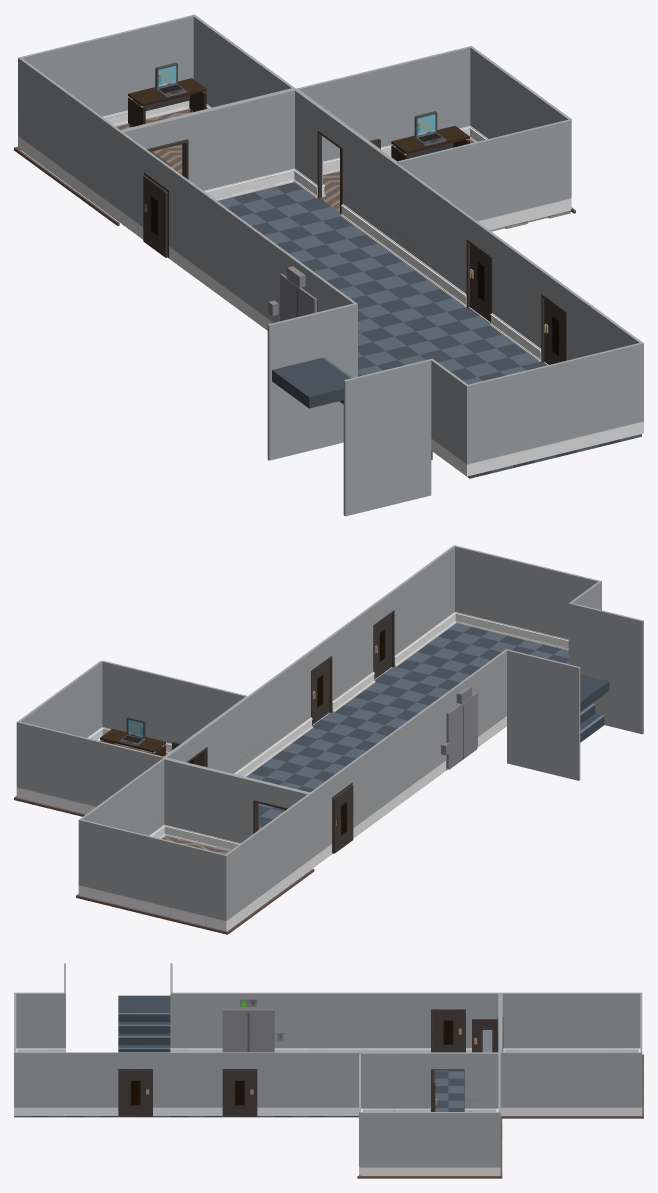
Rendered from tercerNiveles.fbx.
The picture shows the model from 3 angles, top to bottom: view 1: azimuth 30°, elevation 25°; view 2: azimuth 150°, elevation 25°; view 3: azimuth 270°, elevation 25°; orthographic projection. The views are drawn at different scales.
Visible parts, largest first — view 1: Caja_996; view 2: Caja_996; view 3: Caja_996.
Part boxes in pixels (x1=…): Caja_996: x1=14, y1=14, x2=643, y2=516; Caja_996: x1=14, y1=545, x2=643, y2=934; Caja_996: x1=14, y1=963, x2=643, y2=1178.
Bounding box in the file's own units: 1310 × 384 × 2320.
1 material, 1 textured.
